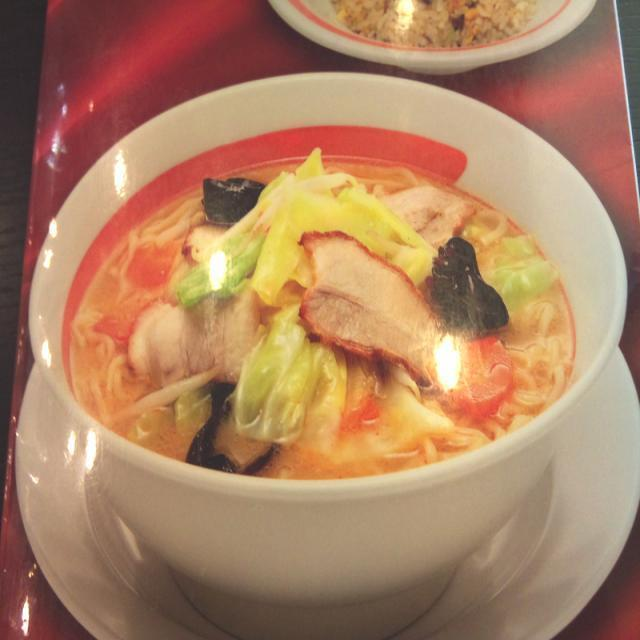ramen-noodle: (65, 161, 569, 490)
